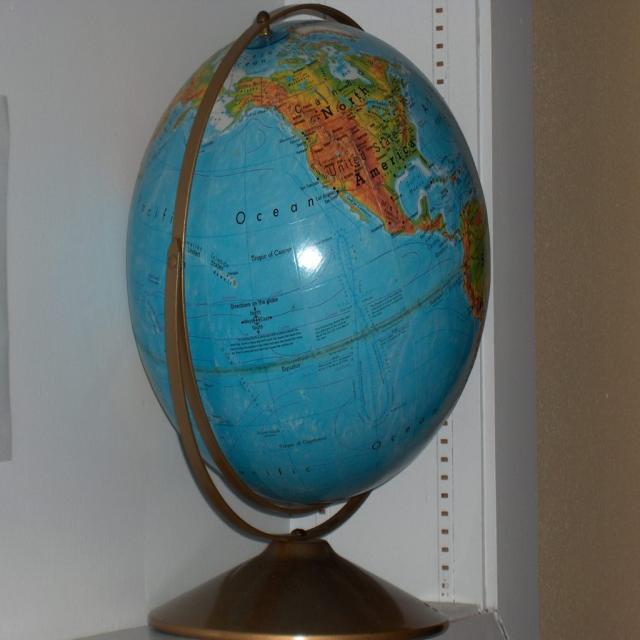Ball: (126, 18, 491, 501)
